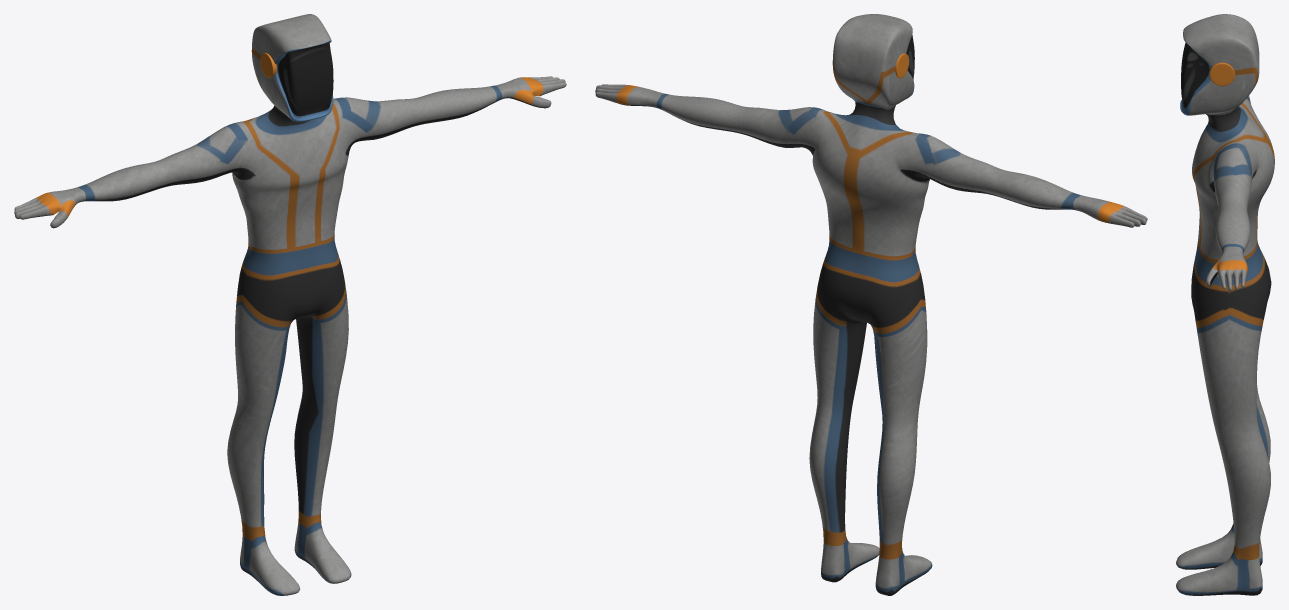
The model's file is Player.fbx.
3 views of the same model, side by side, from view 1: azimuth 30°, elevation 25°; view 2: azimuth 150°, elevation 25°; view 3: azimuth 270°, elevation 25° (orthographic).
Parts seen in each view (by area): view 1: Uman_like_Human_but_without_the_H; view 2: Uman_like_Human_but_without_the_H; view 3: Uman_like_Human_but_without_the_H.
Boxes of the visible parts, x1,y1,x2,y2 form: Uman_like_Human_but_without_the_H: (14, 14, 566, 595); Uman_like_Human_but_without_the_H: (595, 14, 1147, 595); Uman_like_Human_but_without_the_H: (1176, 14, 1274, 595).
Bounding box in the file's own units: 6.27 × 6.03 × 0.9734.
1 material, 1 textured.
